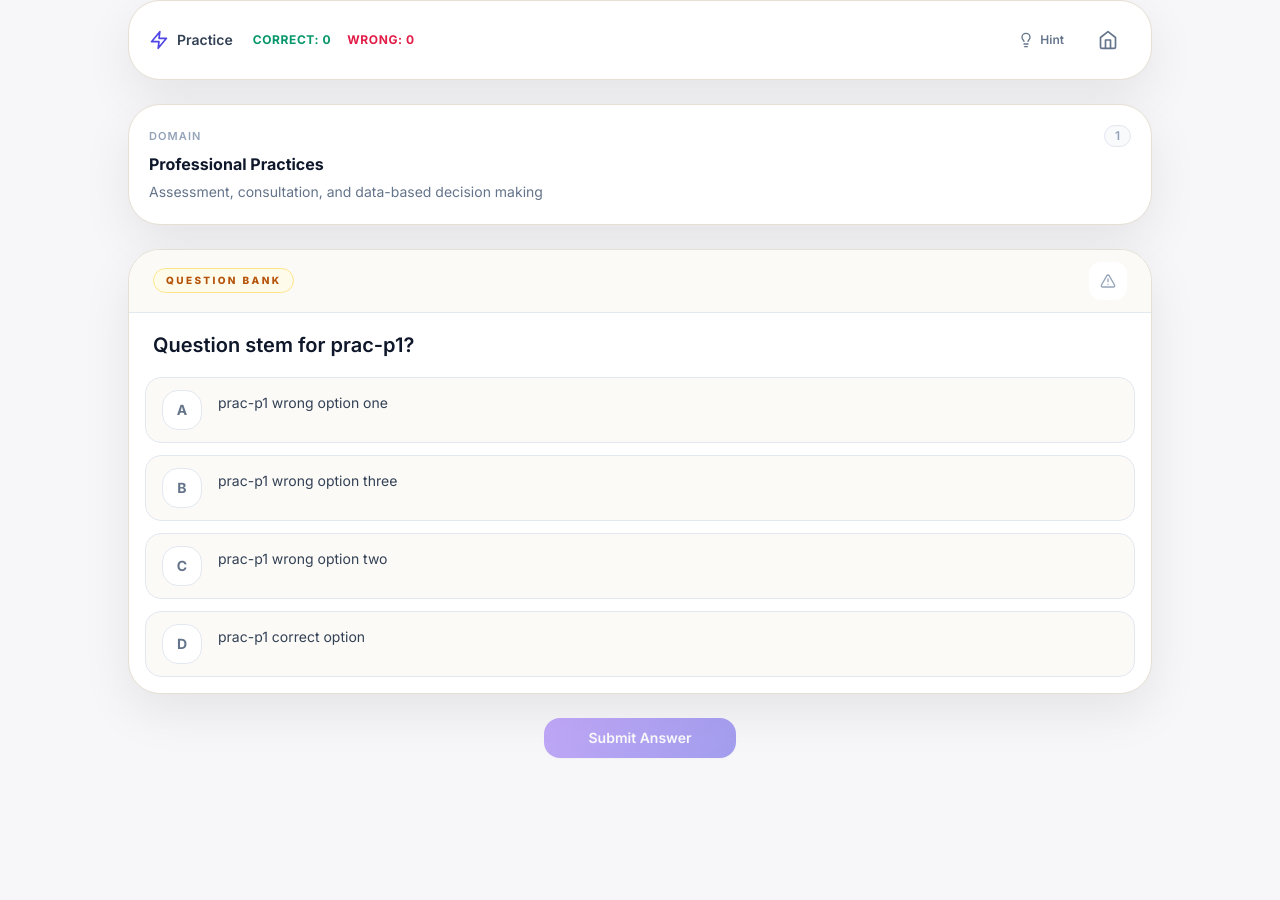
Test: PracticeSession — answering › wrong answer tracks toward the redemption miss threshold and updates stats
The image size is (1280, 900).
Click the text "prac-p1 wrong option one" at point(303, 402), box [218,394,388,411]
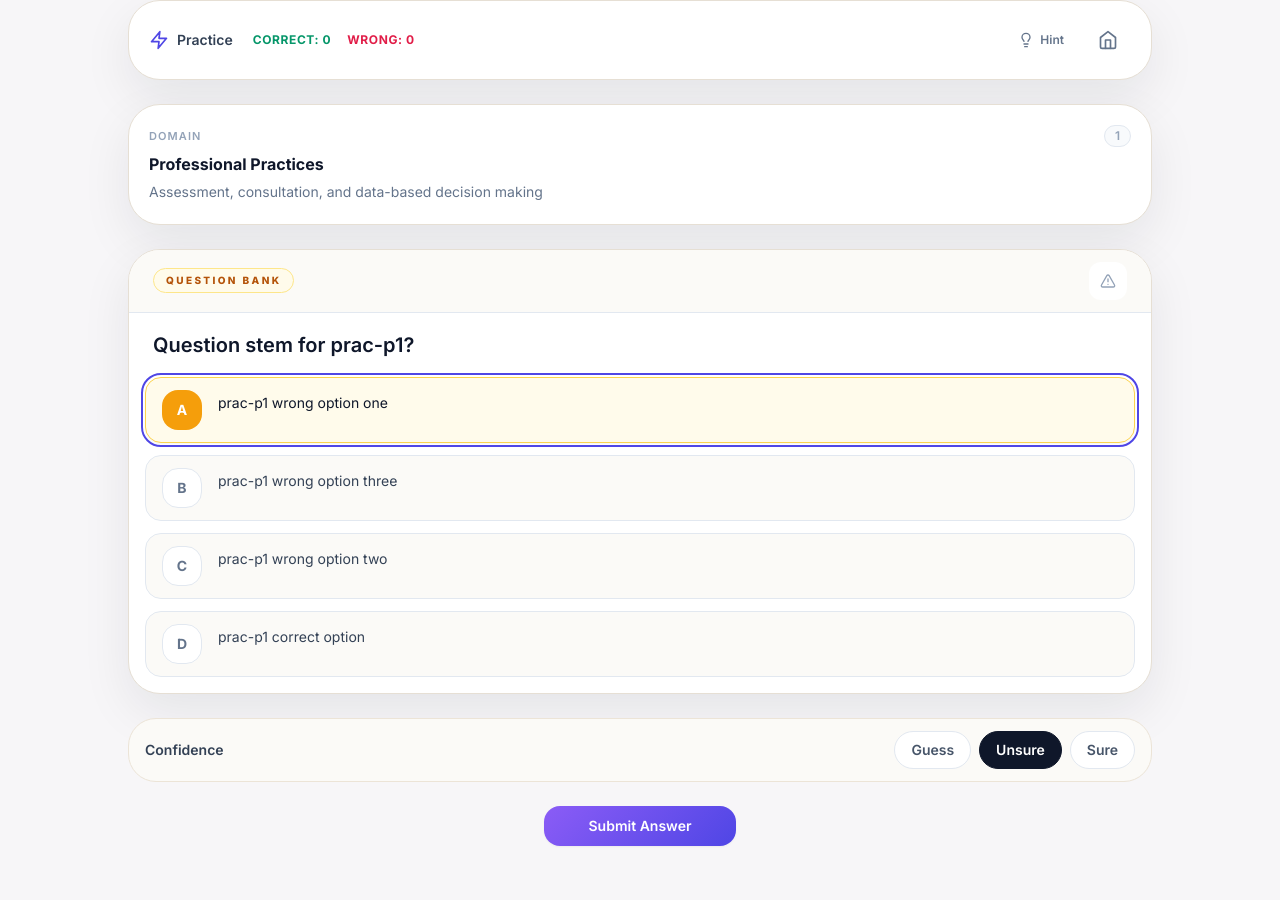
Click the button "Submit Answer" at point(640, 826), box [544,806,736,846]
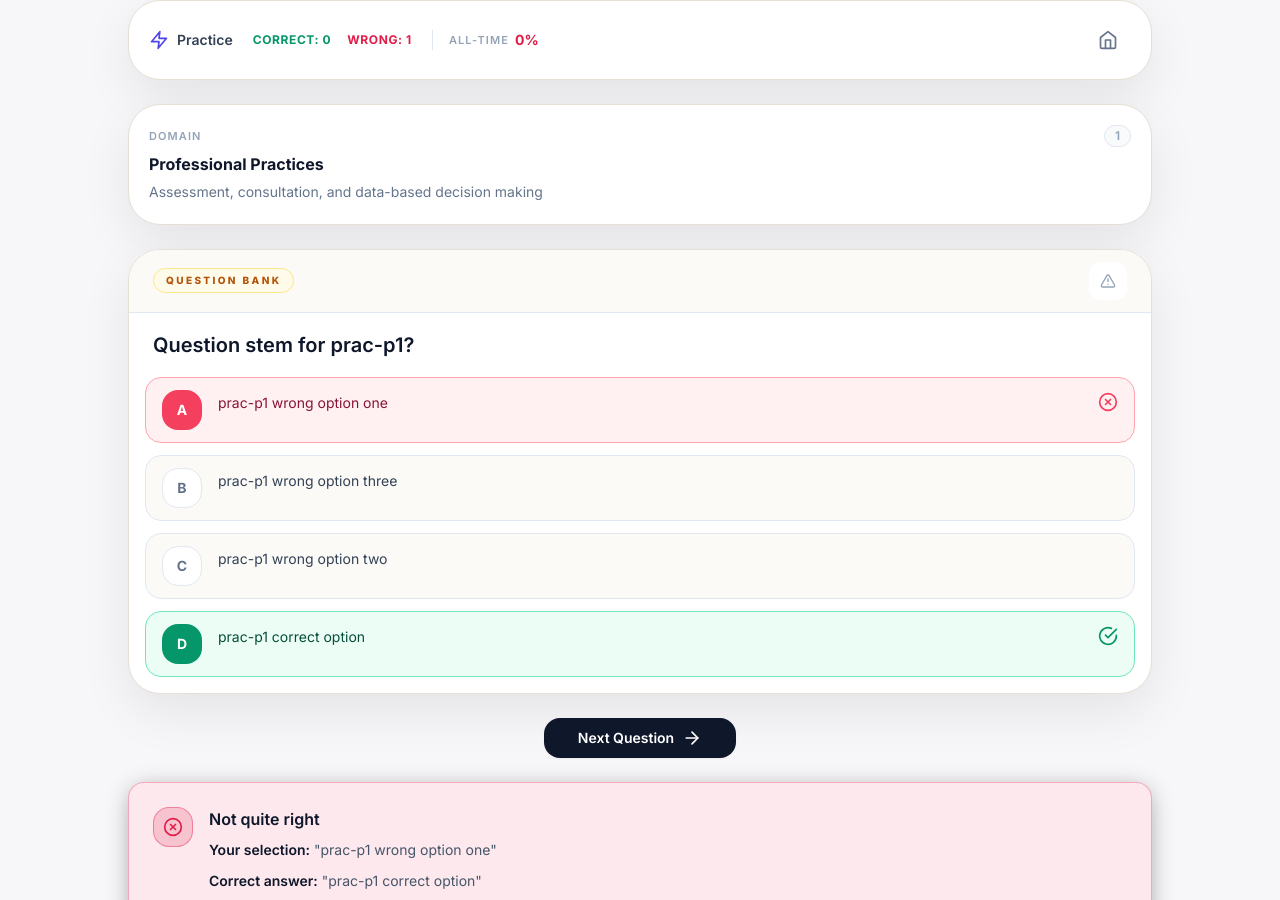
Expected: the text "Wrong: 1" is shown, [347,32,412,48]
